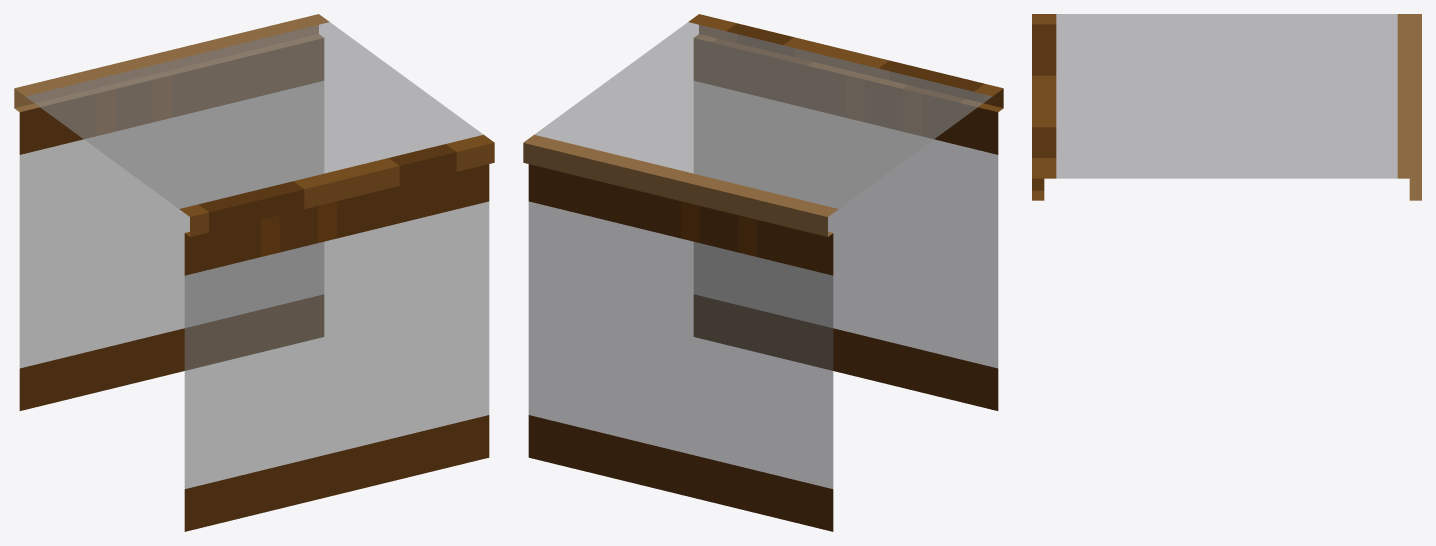
The model's file is counter_518x09.gltf.
3 renders of one model, left to right at view 1: azimuth 30°, elevation 25°; view 2: azimuth 150°, elevation 25°; view 3: azimuth 270°, elevation 25°, orthographic. The views are drawn at different scales.
Visible parts, largest first — view 1: Counter_518x09; view 2: Counter_518x09; view 3: Counter_518x09.
Part boxes in pixels (bbox=[...]): Counter_518x09: bbox=[14, 14, 494, 531]; Counter_518x09: bbox=[523, 14, 1003, 531]; Counter_518x09: bbox=[1032, 14, 1421, 200].
Bounding box in the file's own units: 2.07 × 2.07 × 2.07.
1 material, 1 textured.
